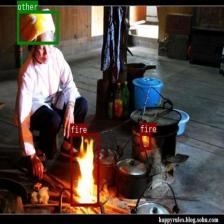fire: (70, 133, 99, 206), (140, 132, 150, 150)
